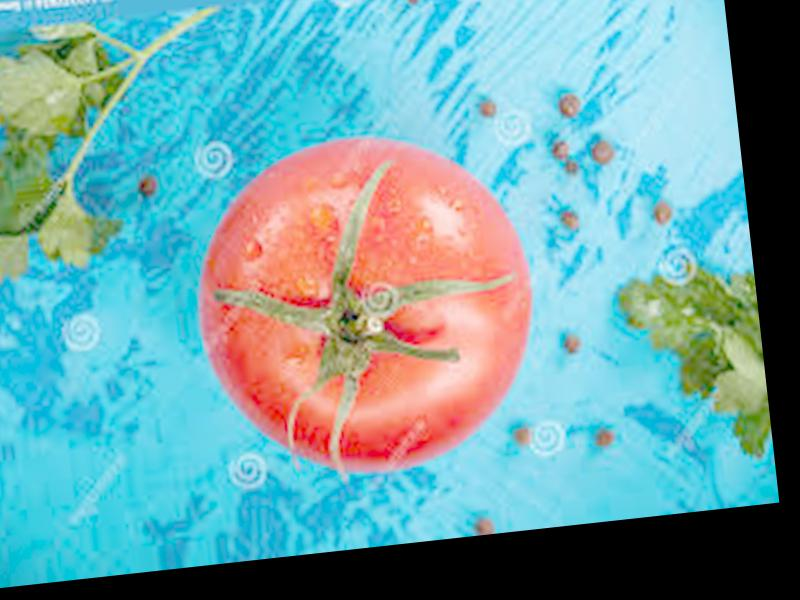Tomato: (182, 121, 548, 487)
